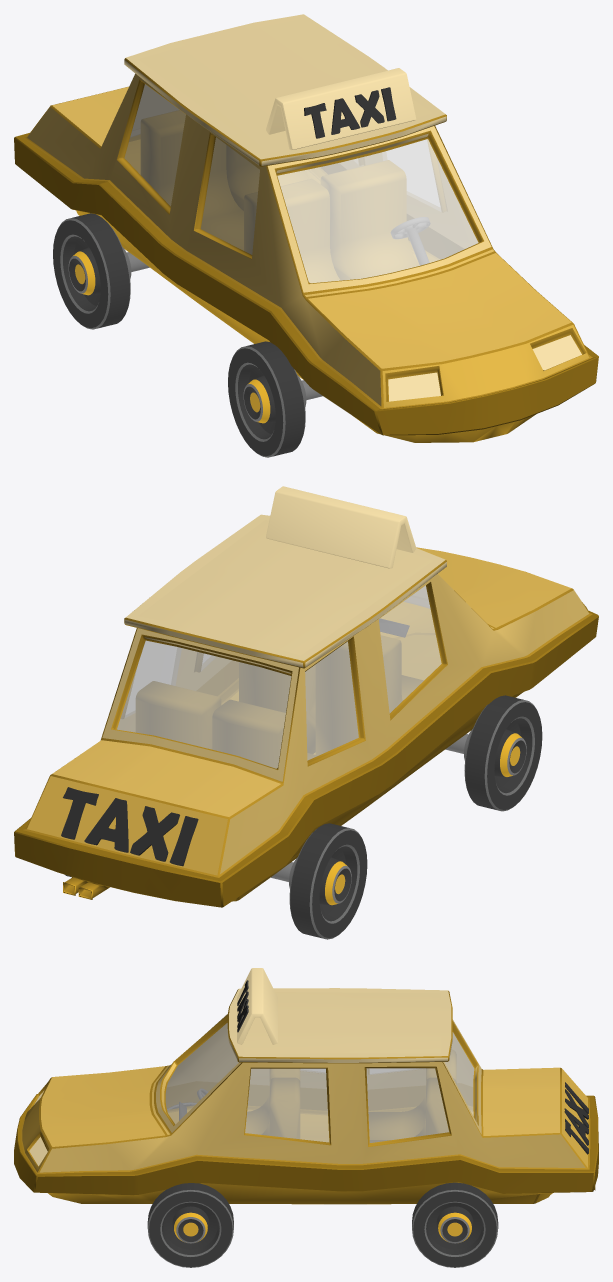
File: TAXI-downsized.glb
3 renders of one model, top to bottom at view 1: azimuth 30°, elevation 25°; view 2: azimuth 150°, elevation 25°; view 3: azimuth 270°, elevation 25°, orthographic. The views are drawn at different scales.
Parts seen in each view (by area): view 1: TAXI.001, Taxiräder; view 2: TAXI.001, Taxiräder; view 3: TAXI.001, Taxiräder.
Boxes of the visible parts, box(x1,y1,x2,y2) form: TAXI.001: box(14, 14, 598, 442); Taxiräder: box(53, 213, 322, 457); TAXI.001: box(14, 486, 598, 907); Taxiräder: box(64, 695, 542, 939); TAXI.001: box(14, 968, 598, 1204); Taxiräder: box(147, 1102, 498, 1267).
Size of the model in its own units: 1.35 by 1.48 by 3.41.
Materials: 4 (3 with a texture image).
